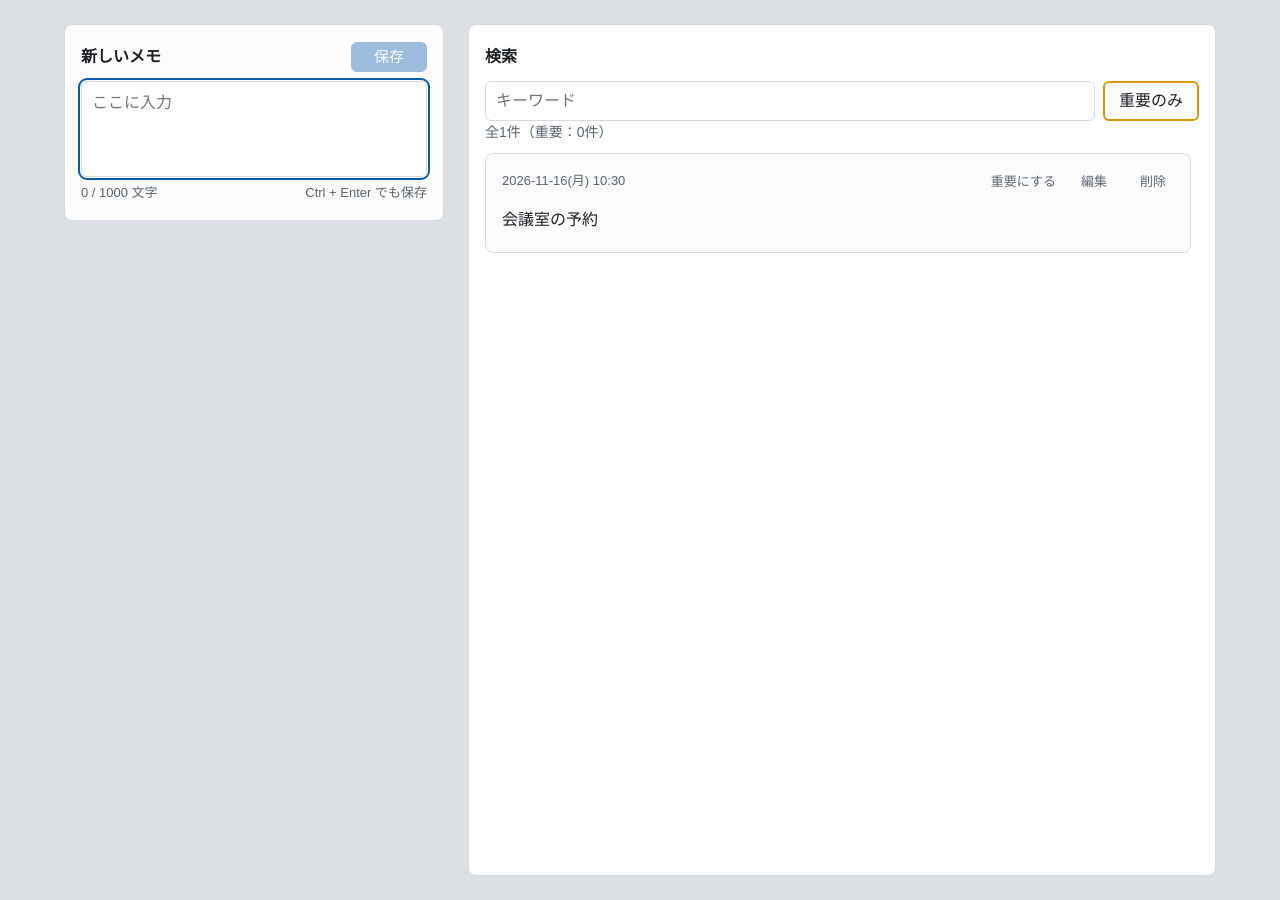
検索（F3） › 一致しないときは「見つかりませんでした」を出す（メモが 0 件のときとは別の文）
The image size is (1280, 900).
Check: the text "会議室の予約" is shown, box [502,211,598,228]
Type "存在しない語" into the search field named "キーワードで検索".
click(790, 101); type("存在しない語")  # box [485,81,1095,121]
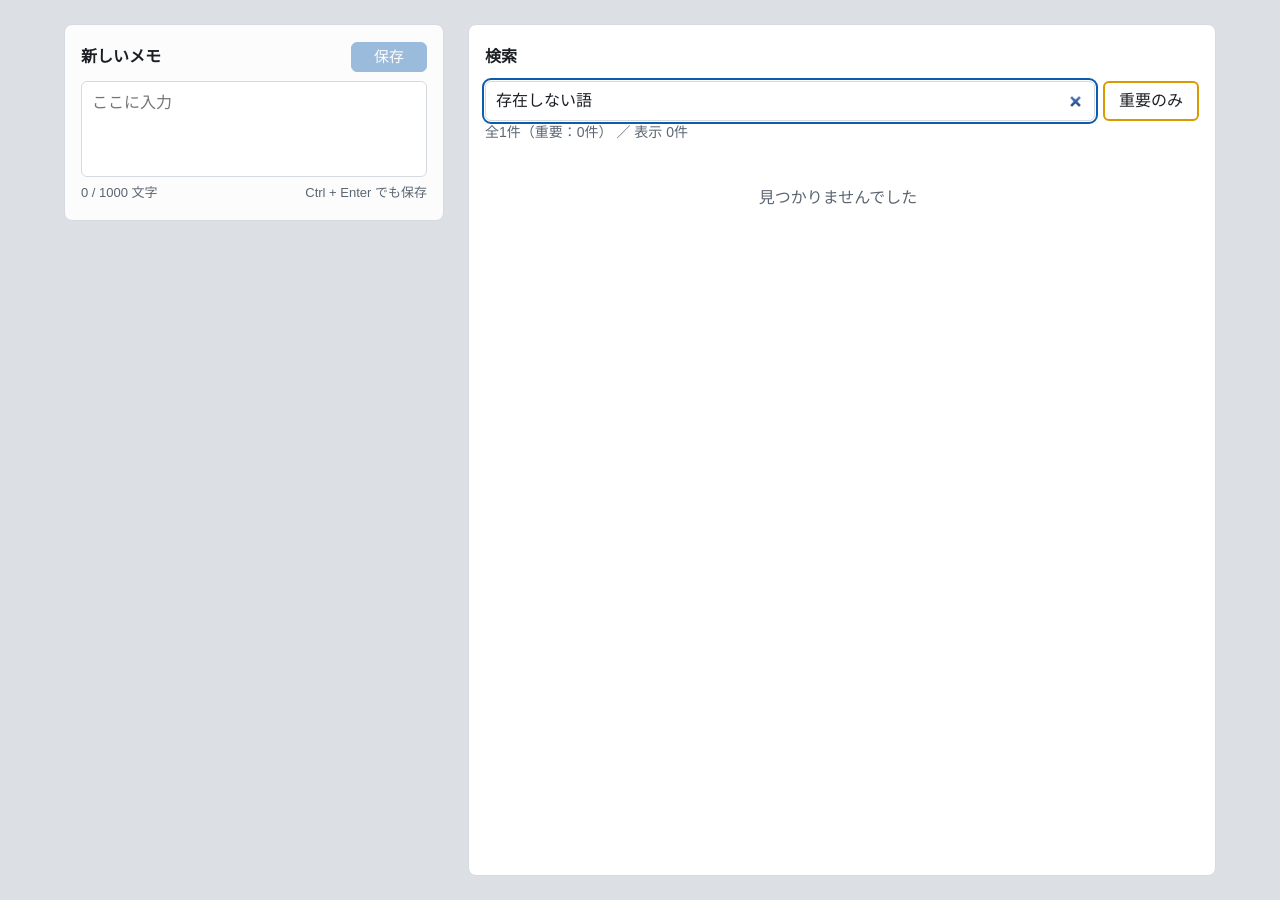
Check: the text "見つかりませんでした" is shown, box [759,189,917,206]
Check: the text "全1件（重要：0件） ／ 表示 0件" is shown, box [485,124,688,140]
